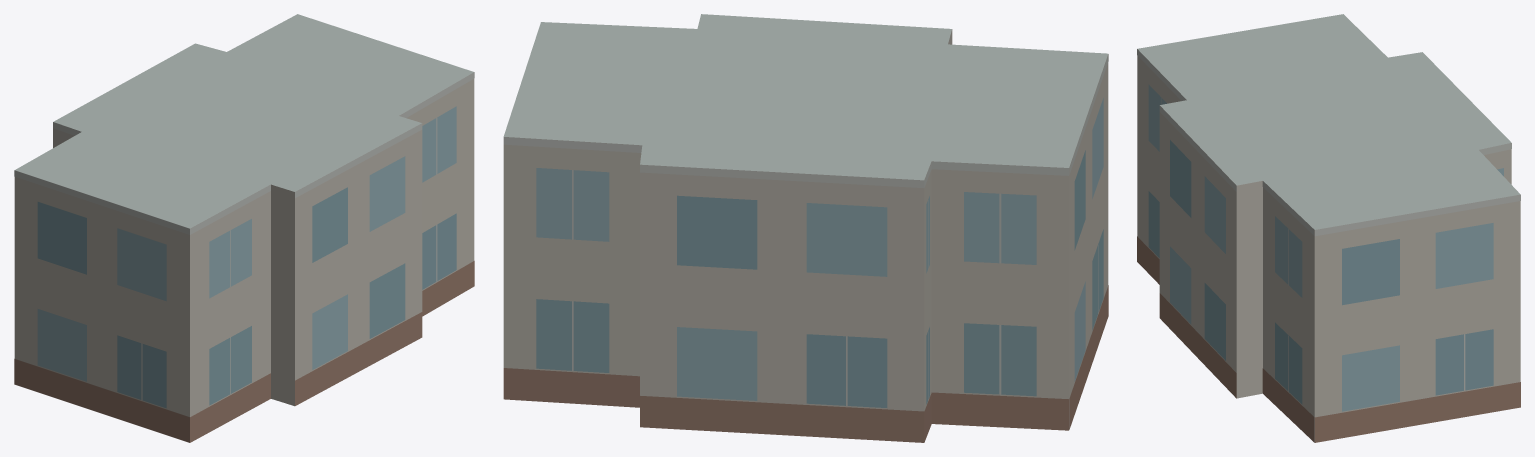
File: survey-upis-33004884.glb
3 renders of one model, left to right at view 1: azimuth 30°, elevation 25°; view 2: azimuth 150°, elevation 25°; view 3: azimuth 270°, elevation 25°, orthographic. The views are drawn at different scales.
Parts seen in each view (by area): view 1: survey-upis-33004884.tmp; view 2: survey-upis-33004884.tmp; view 3: survey-upis-33004884.tmp.
Boxes of the visible parts, x1,y1,x2,y2 form: survey-upis-33004884.tmp: (14,14,474,442); survey-upis-33004884.tmp: (503,14,1108,442); survey-upis-33004884.tmp: (1137,14,1520,442).
Size of the model in its own units: 17.74 by 8.15 by 13.32.
